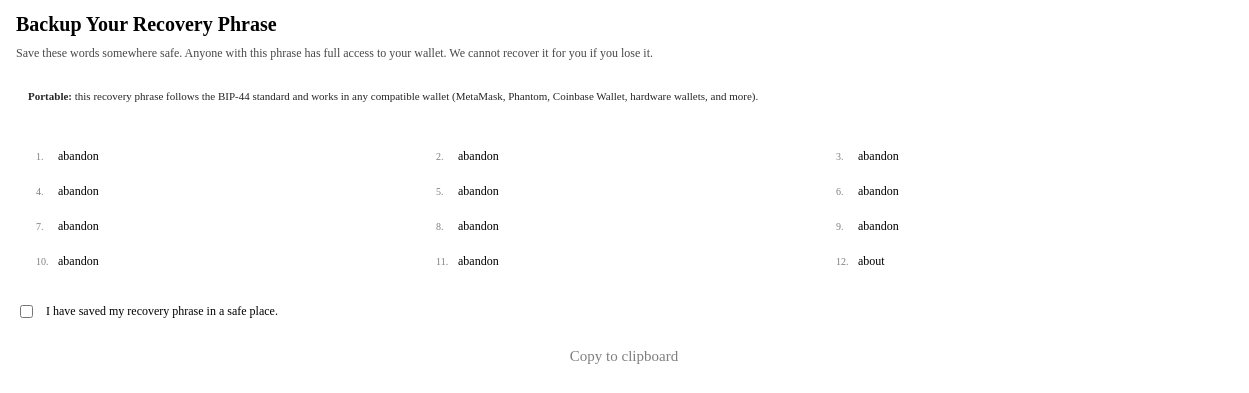
Test: MnemonicDisplay (B5.1, Pattern B) › Copy button enables after acknowledgment checkbox is checked
Check: the button "Copy to clipboard" is disabled, box [16,336,1232,376]
Click the checkbox. click: (26, 311)
box: [20,304,33,318]
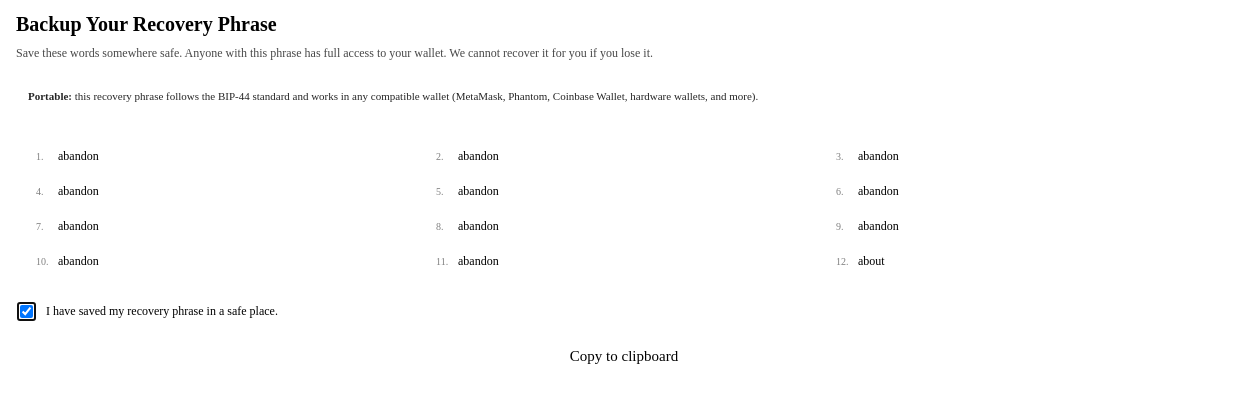
Check: the button "Copy to clipboard" is enabled, box [16,336,1232,376]
